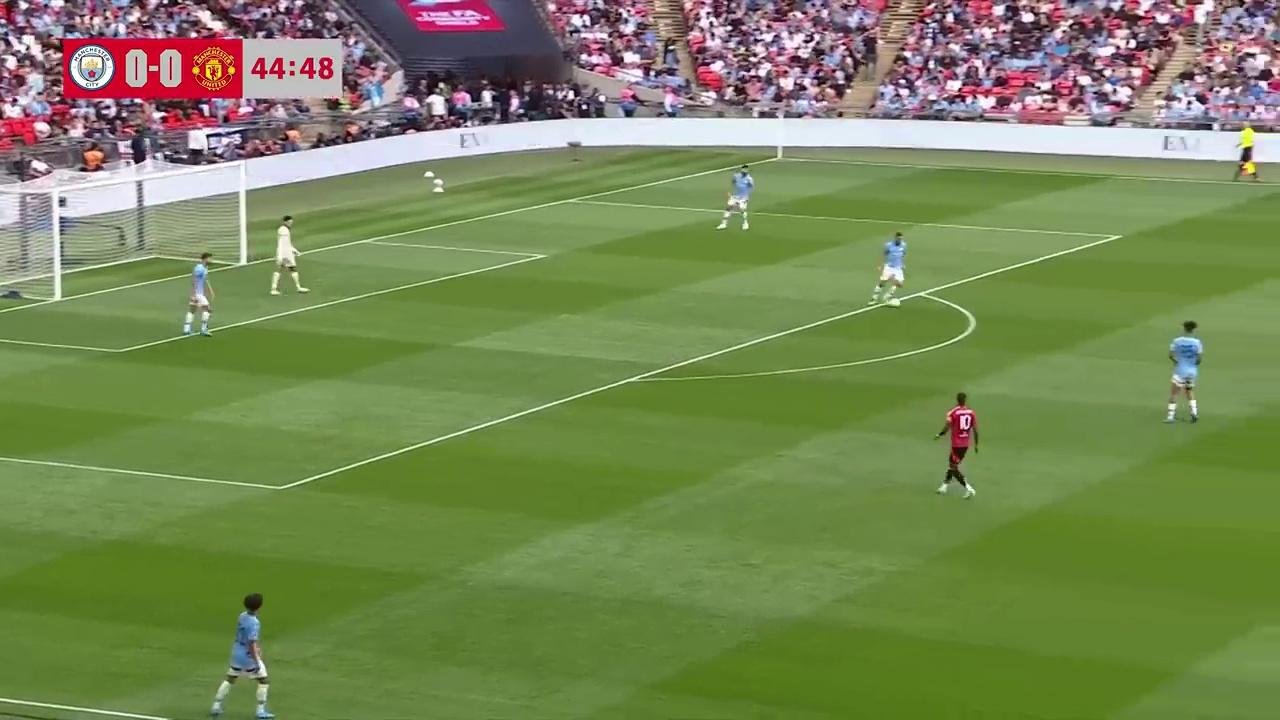ball: (889, 294, 903, 309)
player: (214, 593, 271, 716), (933, 392, 979, 499), (1165, 319, 1203, 424), (269, 214, 306, 296), (870, 231, 907, 304), (183, 253, 214, 337), (717, 166, 754, 231)
referee: (1233, 131, 1259, 182)
